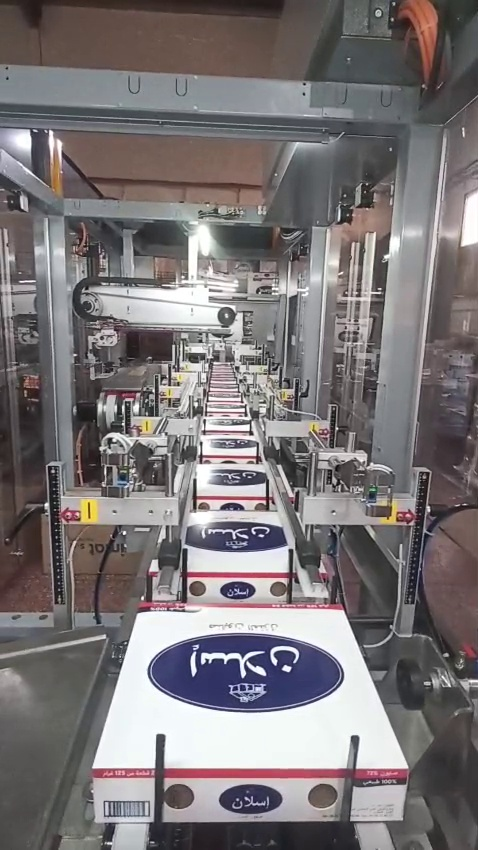savon: (200, 14, 288, 76), (69, 498, 108, 582), (190, 140, 248, 176), (0, 0, 32, 62), (49, 32, 96, 64), (190, 192, 241, 211), (107, 551, 140, 576), (64, 0, 128, 12), (47, 157, 63, 197), (377, 497, 399, 526), (428, 0, 444, 37), (128, 188, 168, 200), (138, 419, 154, 435)
